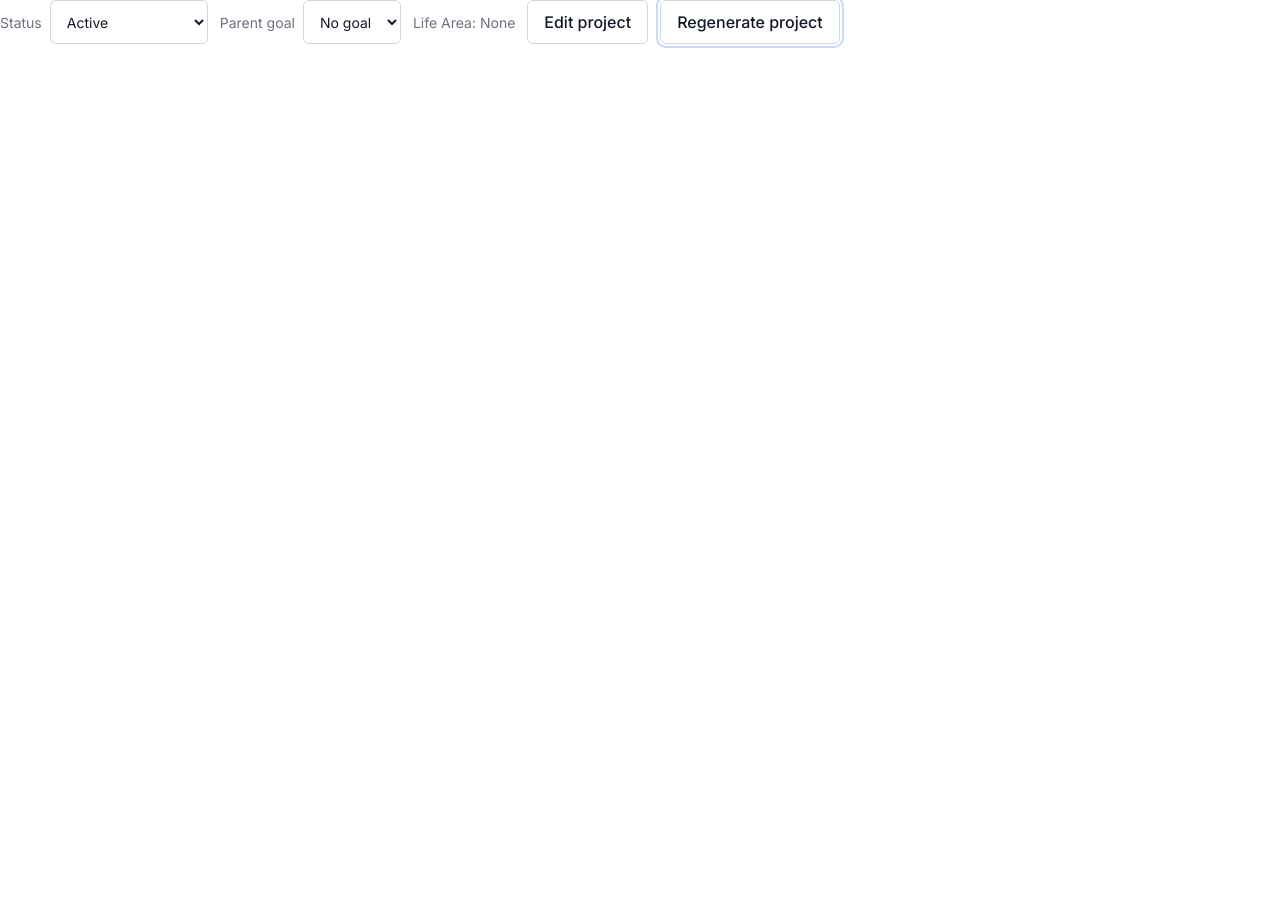
Test case: ProjectDetailClient › does not regenerate when the confirmation is cancelled
Click the button "Regenerate project". click: (750, 22)
box: [660, 0, 840, 44]
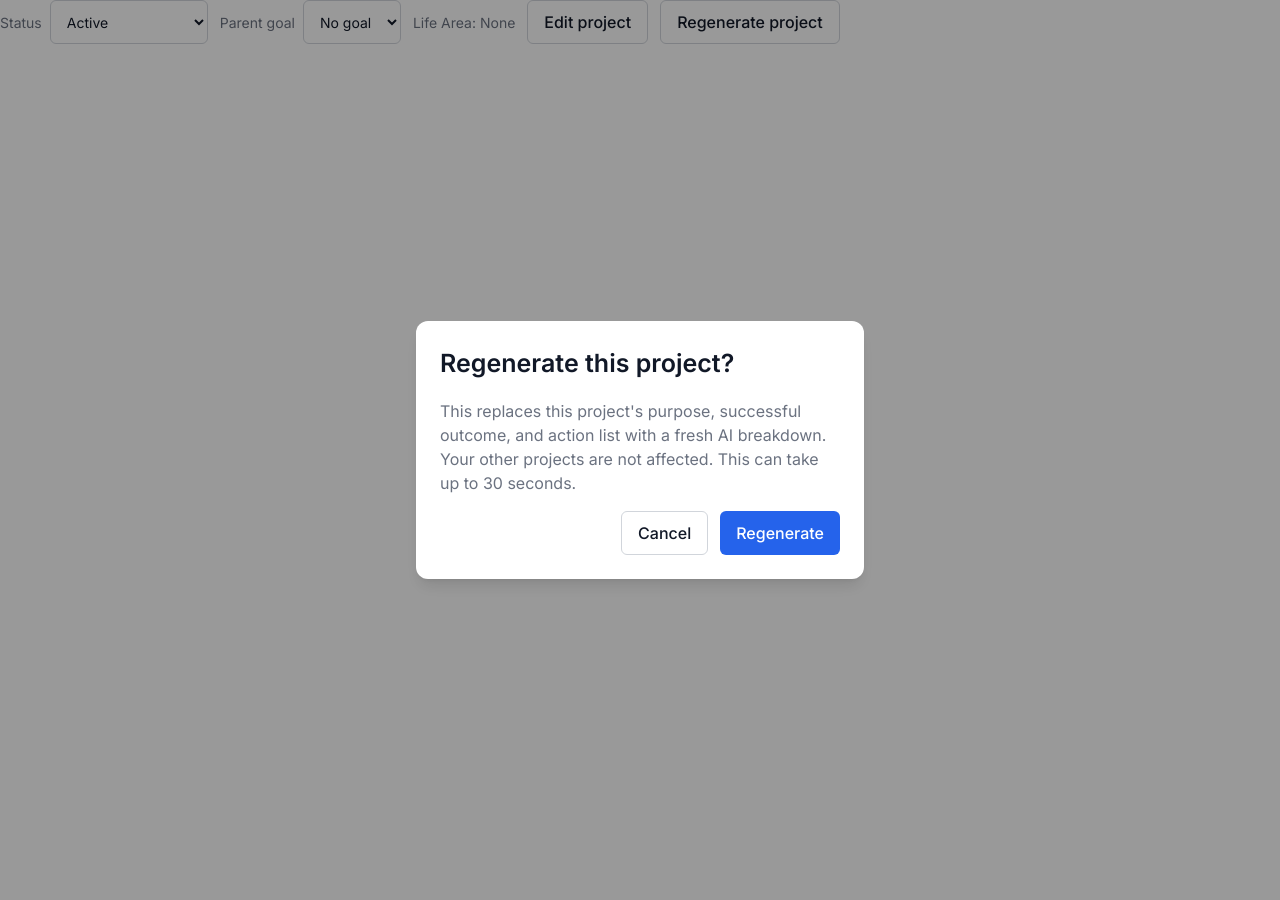
Click the button "Cancel". click: (665, 533)
box: [621, 511, 708, 555]
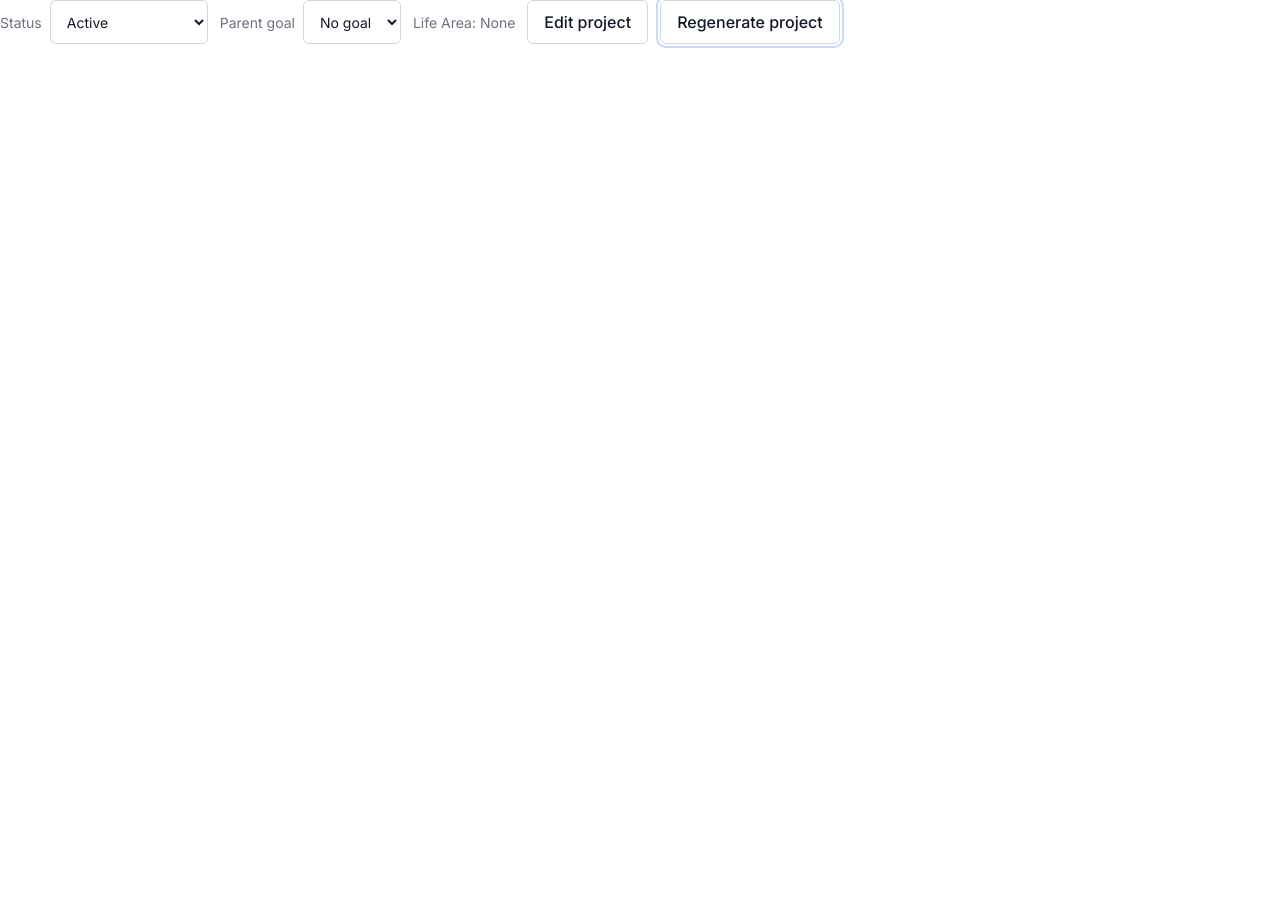
Check: the dialog is gone
